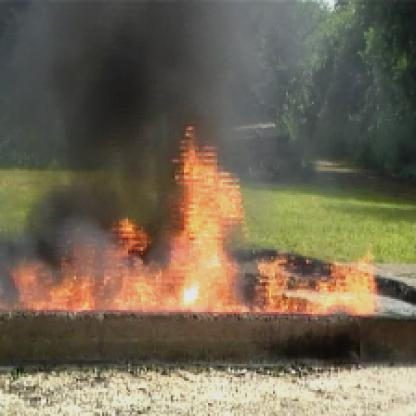Fire: (2, 117, 251, 314), (241, 240, 379, 318)
Smoke: (52, 2, 221, 135)
